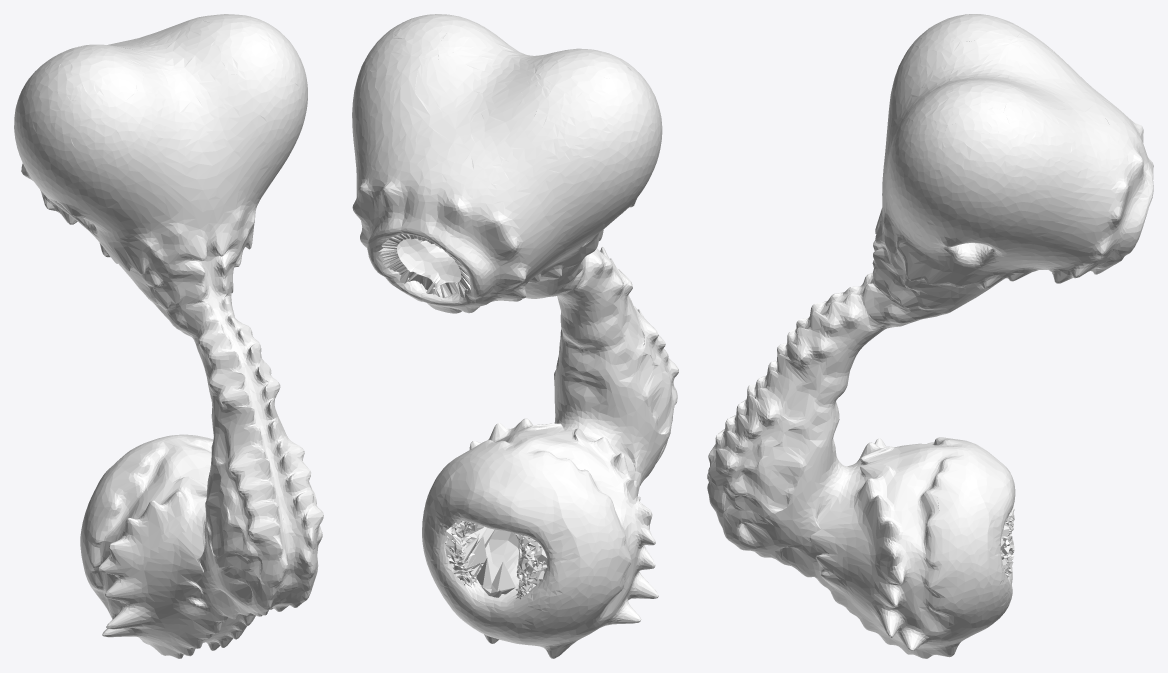
The model's file is creature3.obj.
3 views of the same model, side by side, from view 1: azimuth 30°, elevation 25°; view 2: azimuth 150°, elevation 25°; view 3: azimuth 270°, elevation 25° (orthographic). The views are drawn at different scales.
Parts seen in each view (by area): view 1: Creature; view 2: Creature; view 3: Creature.
Boxes of the visible parts, x1,y1,x2,y2 form: Creature: (14,14,323,658); Creature: (352,14,678,658); Creature: (707,14,1153,658).
Bounding box in the file's own units: 6.56 × 13.88 × 9.48.
Materials: 1 (1 with a texture image).
